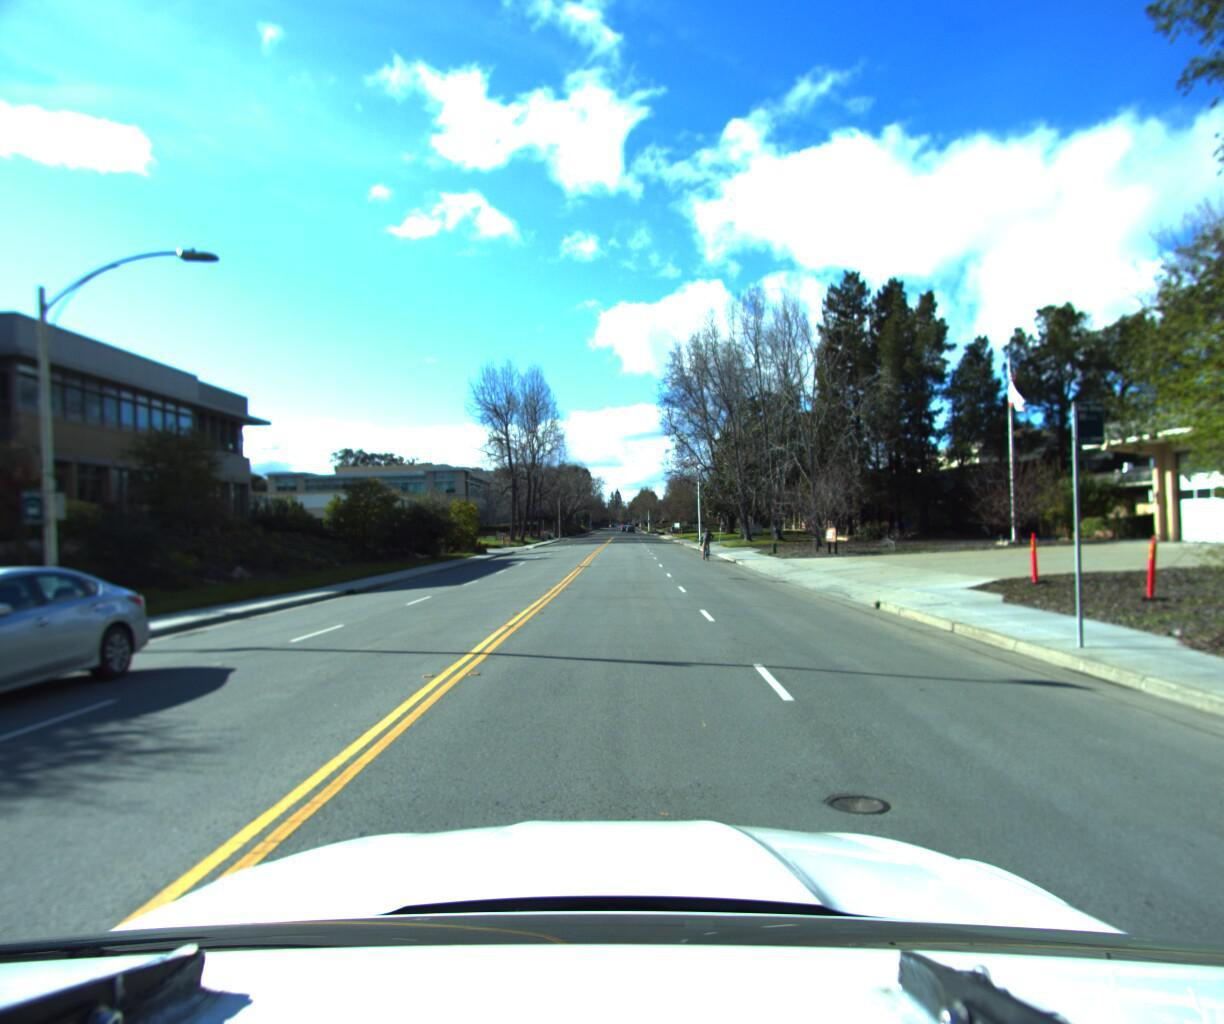bicycle: (695, 522, 715, 558)
car: (0, 548, 170, 781)
